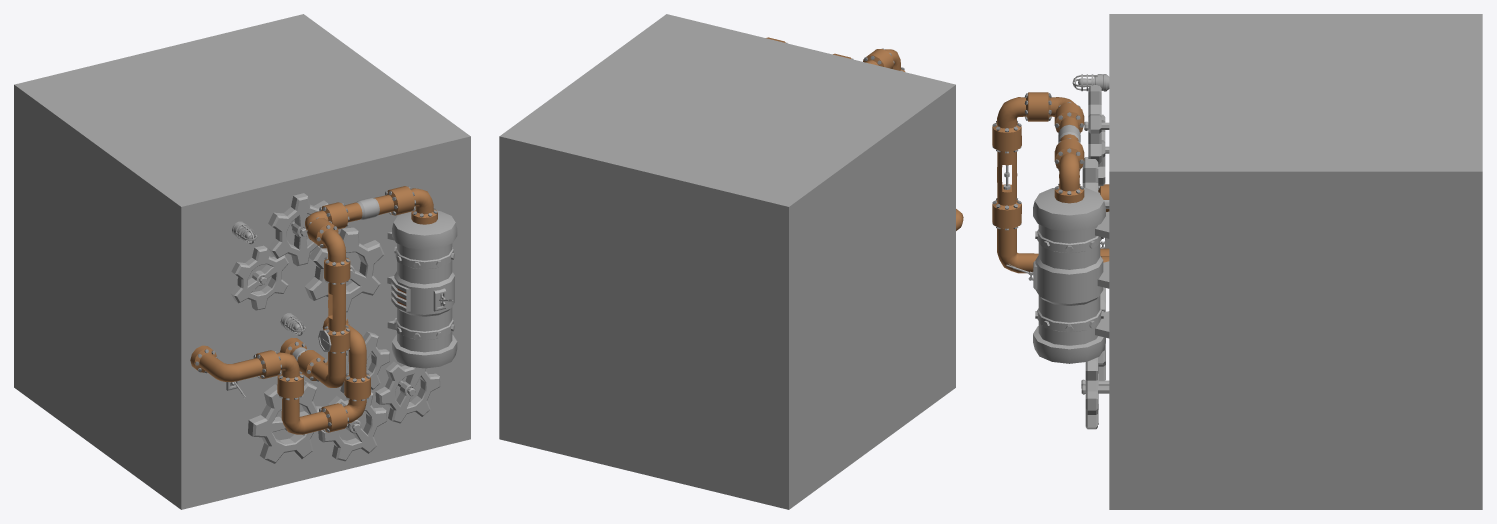
The model's file is GJ_Wall_003.fbx.
3 views of the same model, side by side, from view 1: azimuth 30°, elevation 25°; view 2: azimuth 150°, elevation 25°; view 3: azimuth 270°, elevation 25° (orthographic). The views are drawn at different scales.
Parts seen in each view (by area): view 1: GJ_Wall_03; view 2: GJ_Wall_03; view 3: GJ_Wall_03.
Boxes of the visible parts, left/top/right/bottom form: GJ_Wall_03: left=14, top=14, right=470, bottom=509; GJ_Wall_03: left=499, top=14, right=963, bottom=509; GJ_Wall_03: left=992, top=14, right=1482, bottom=509.
Bounding box in the file's own units: 0.7 × 0.7 × 0.9196.
